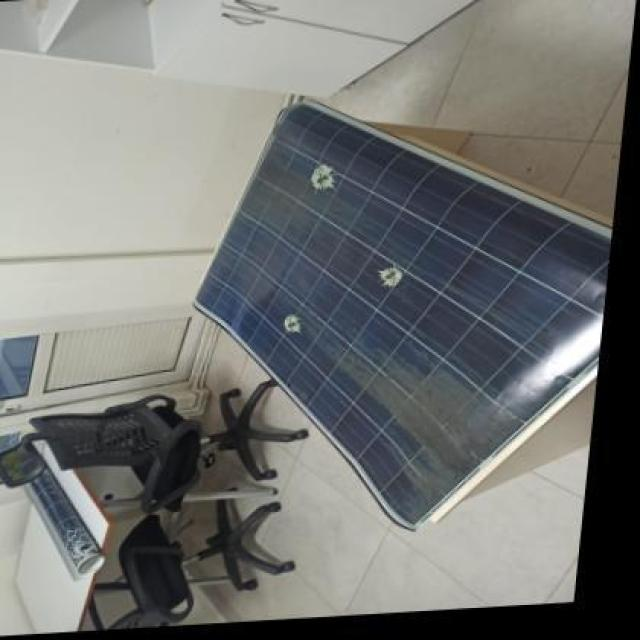soiled: (170, 104, 610, 536)
